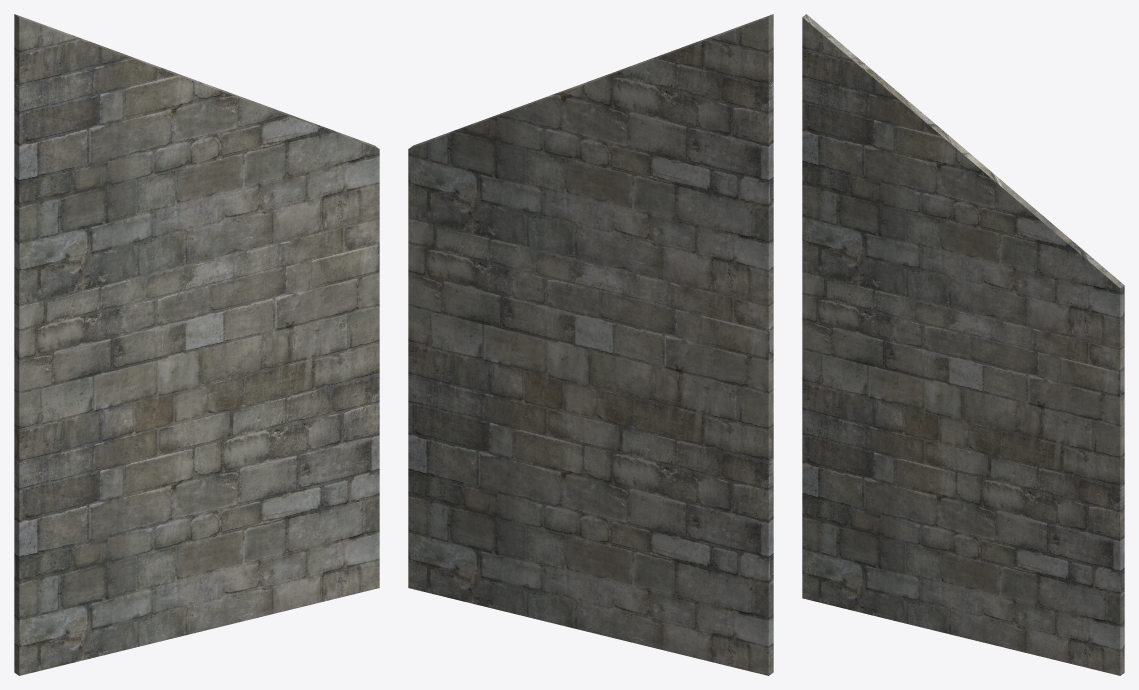
File: bg_lut_lucastle_stairwall02_sm_lkj.FBX
3 views of the same model, side by side, from view 1: azimuth 30°, elevation 25°; view 2: azimuth 150°, elevation 25°; view 3: azimuth 330°, elevation 25° (orthographic). The views are drawn at different scales.
Visible parts, largest first — view 1: bg_lut_lucastle_stairwall02_sm_lkj; view 2: bg_lut_lucastle_stairwall02_sm_lkj; view 3: bg_lut_lucastle_stairwall02_sm_lkj.
Boxes of the visible parts, left/top/right/bottom form: bg_lut_lucastle_stairwall02_sm_lkj: left=14, top=14, right=379, bottom=675; bg_lut_lucastle_stairwall02_sm_lkj: left=408, top=14, right=773, bottom=675; bg_lut_lucastle_stairwall02_sm_lkj: left=802, top=14, right=1124, bottom=675.
Size of the model in its own units: 440 by 768 by 10.21.
